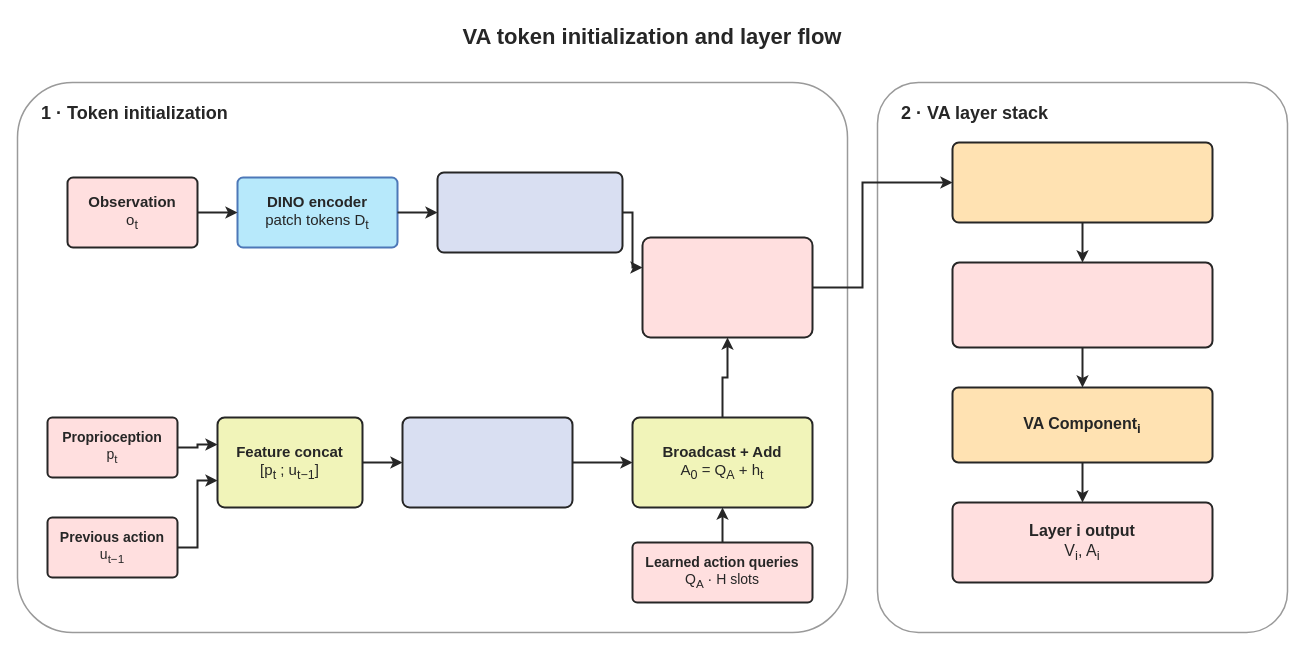
Image size: 1306x650. Some labels were removed from this diagram. The centre of each missing label's shape, as x and y in pixels:
"Initial VA tokens V 0 , A 0" goes at pixel 727 287.
"Layer i input V i−1 , A i−1" goes at pixel 1082 304.
"Previous VA layers 1 → ⋯ → i−1" goes at pixel 1082 182.
"State projection h t = W S [p t ;u t−1 ]" goes at pixel 487 462.
"Visual projection V 0 = W V D t" goes at pixel 529 212.
